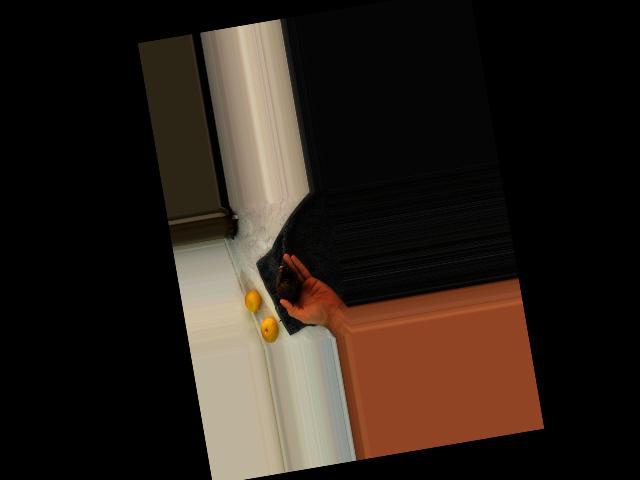beet: (270, 264, 306, 322)
